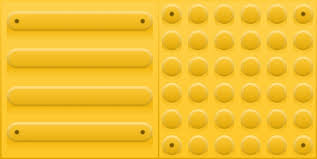guide_blocks: (2, 3, 317, 155)
